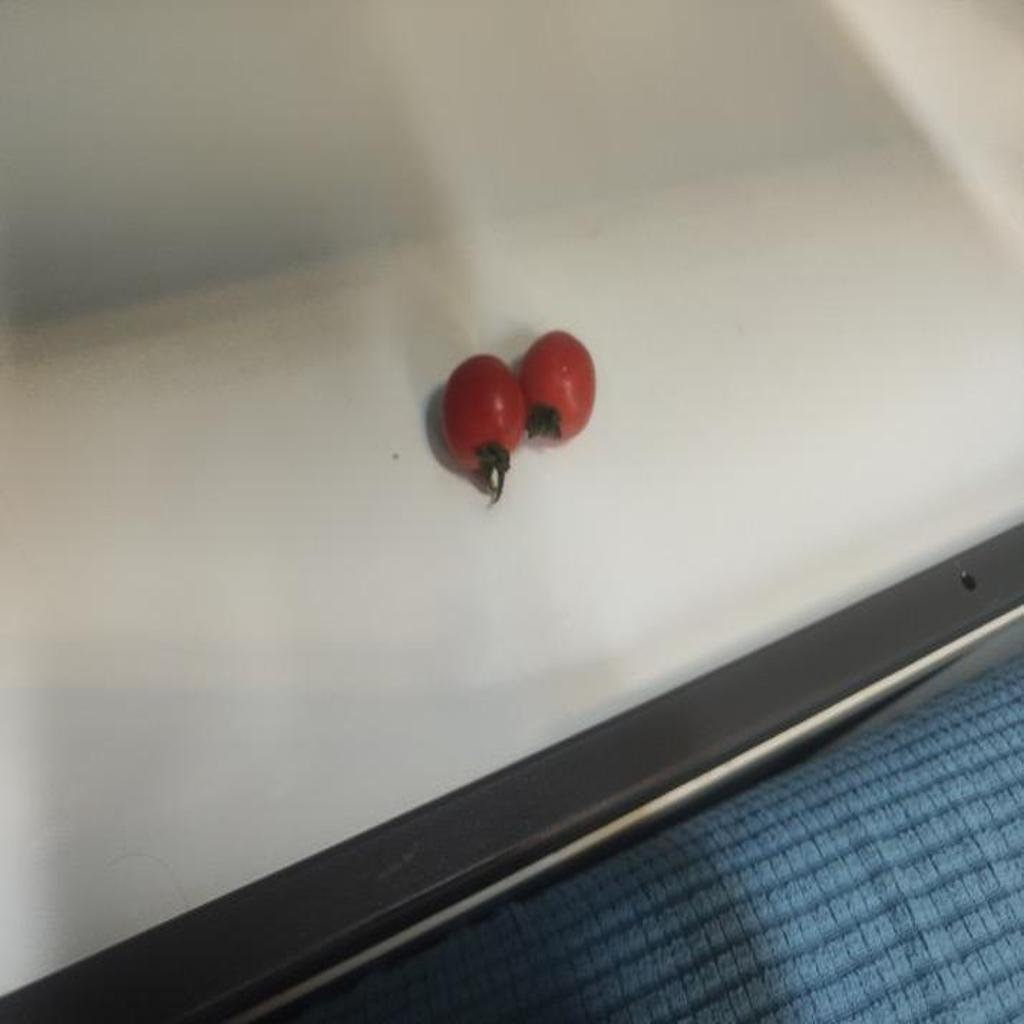tomato: (439, 350, 524, 486), (514, 326, 593, 442)
